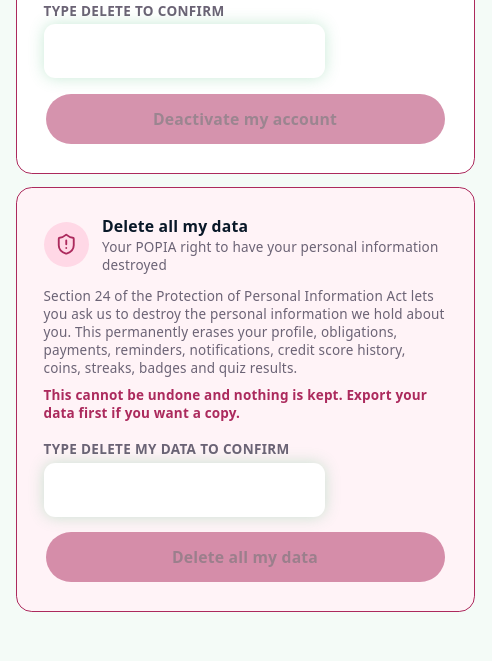
Test case: SettingsAccountPage POPIA data deletion › shows error feedback and keeps the session when deletion fails
This screenshot has width=492, height=661.
(page scrolled)
Type "DELETE MY DATA" into the field labelled "Type DELETE MY DATA to confirm" at [184, 490], box [44, 463, 324, 517]
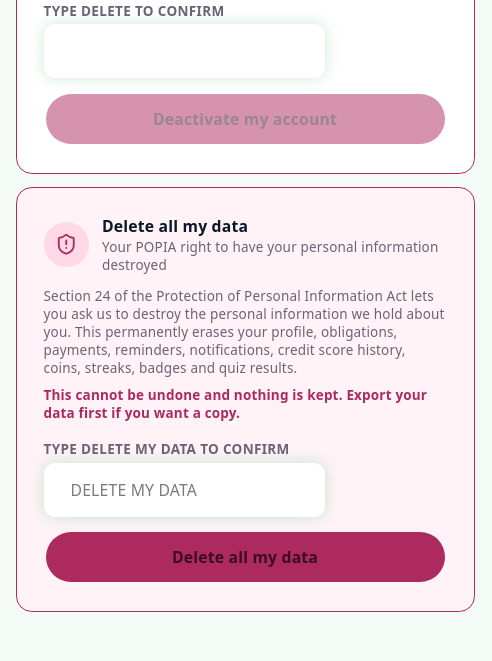
Click the button "Delete all my data" at [245, 557], box [44, 530, 446, 584]
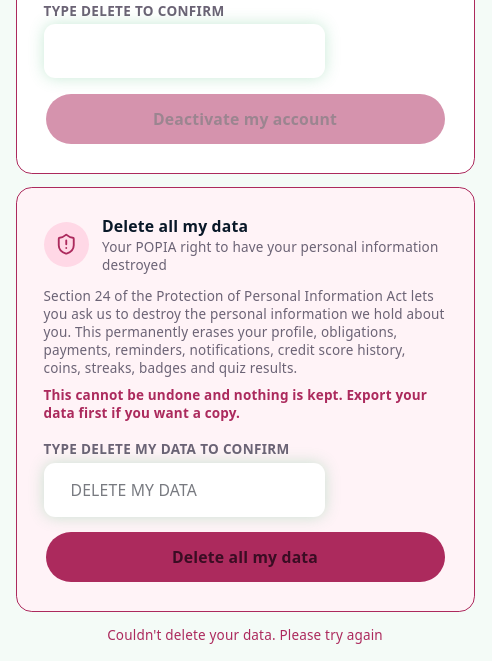
Now the text "Couldn't delete your data. Please try again" is shown, box [107, 626, 383, 644]
